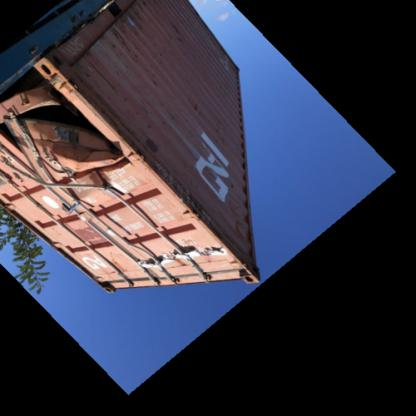Damage: (1, 54, 162, 200), (82, 205, 184, 283)
